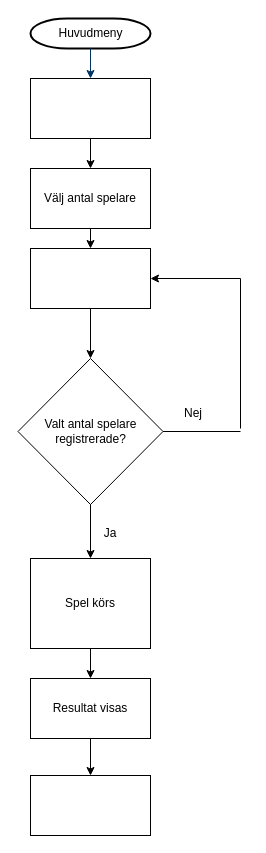
This 266x853 diagram has some shape labels left out. Each missing label, with the box of its shape:
Applikation går tillbaka till huvudmenyn: (30, 774, 150, 836)
Skriv in spelarnamn: (30, 248, 150, 308)
Starta spel: (30, 78, 150, 138)
